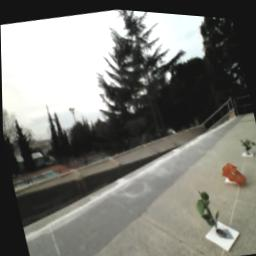herb: (192, 185, 222, 231), (238, 132, 256, 151)
wild: (217, 155, 248, 189)
